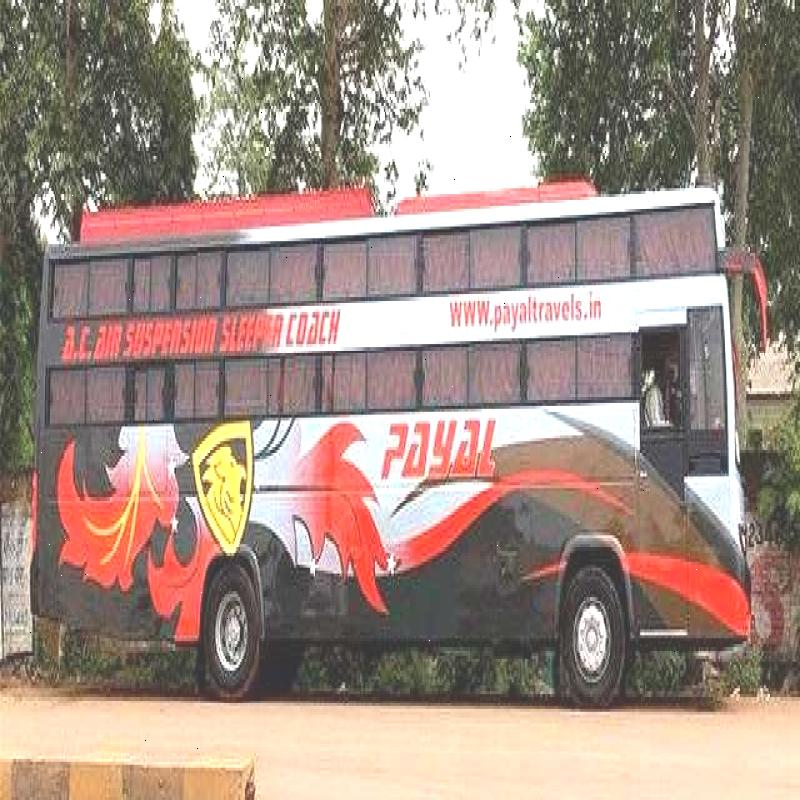bus: (39, 178, 778, 724)
